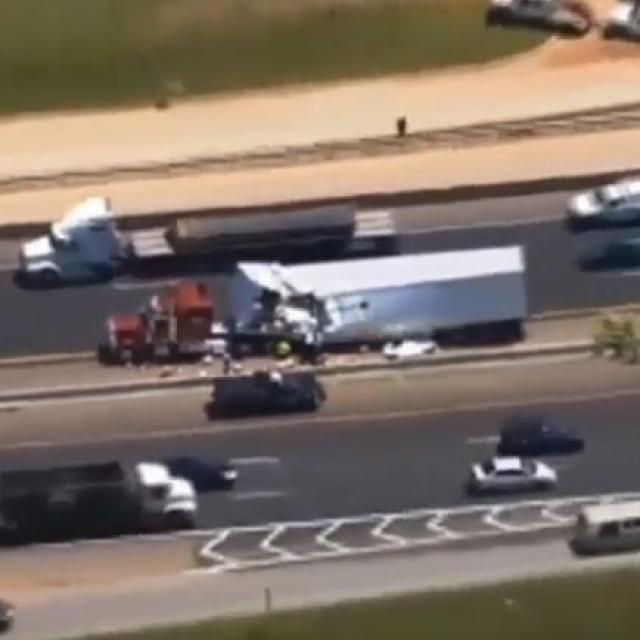traffic_incident: (96, 239, 531, 374)
